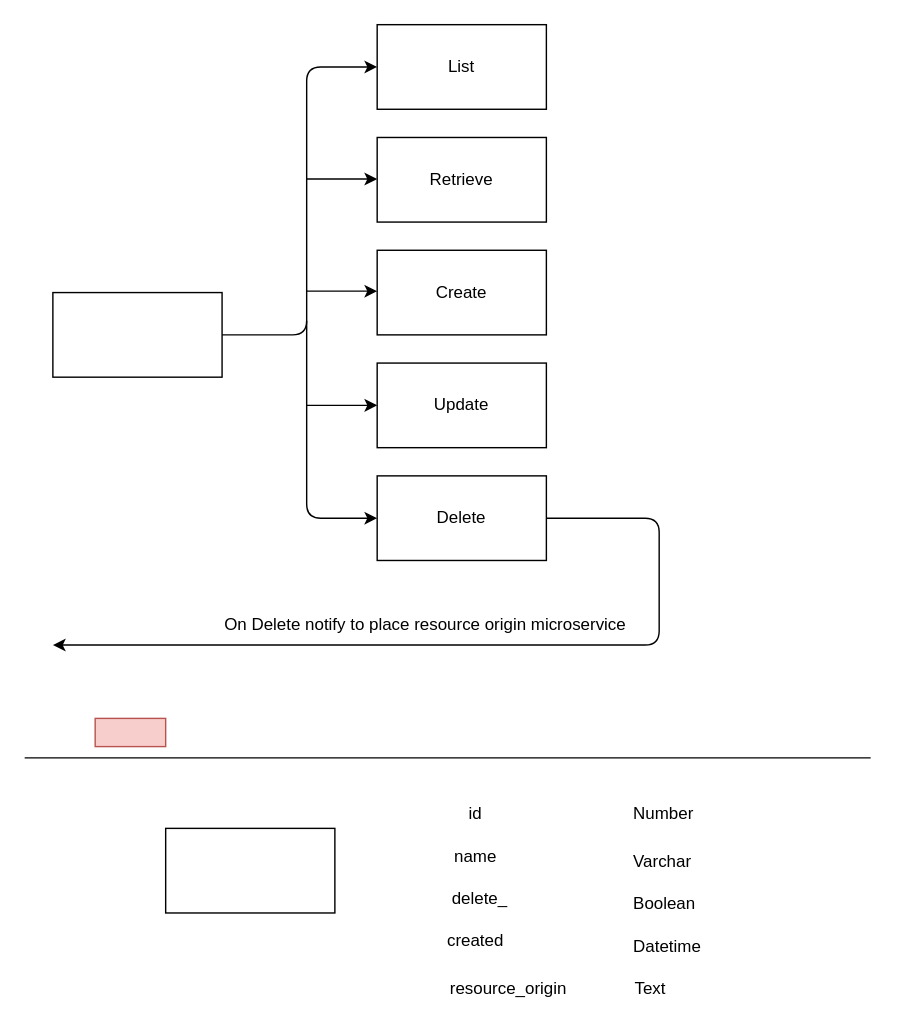
This 897x1036 diagram has some shape labels left out. The shapes that lost their labels are listed below. From the top down, each one's centre as x and y in pixels, then its label:
(x=136, y=334): Place api
(x=130, y=732): Model
(x=249, y=870): Place
